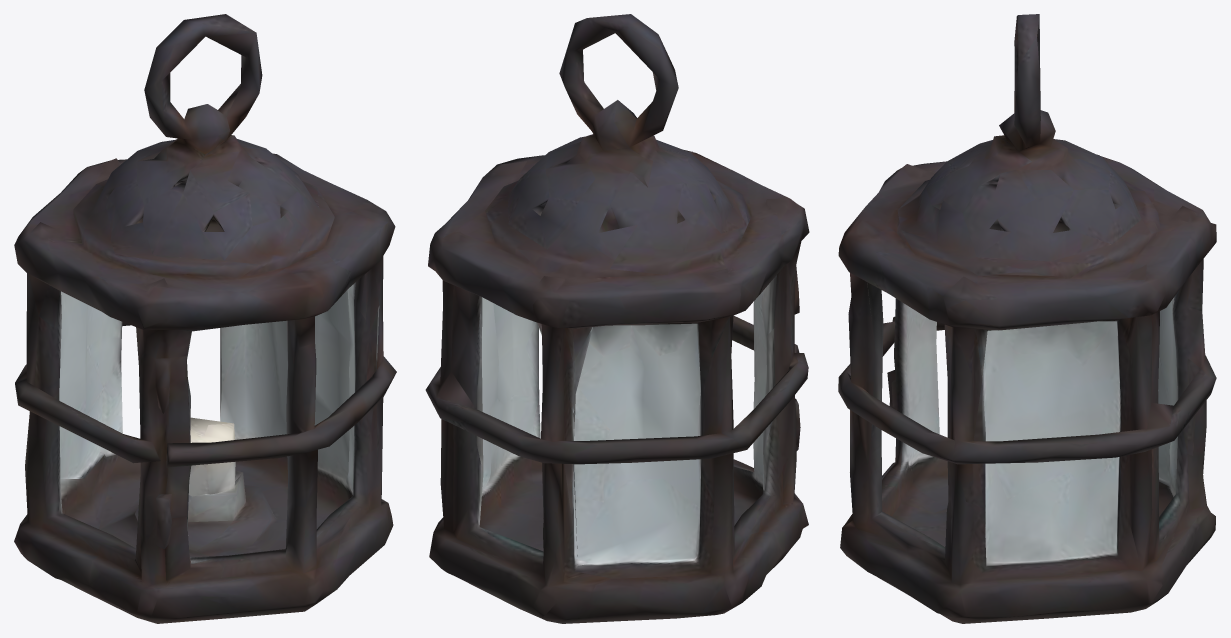
File: lantern.glb
3 renders of one model, left to right at view 1: azimuth 30°, elevation 25°; view 2: azimuth 150°, elevation 25°; view 3: azimuth 270°, elevation 25°, orthographic.
Visible parts, largest first — view 1: tripo_node_e93baaf5-2b7d-4738-bb9b-38b90c058672; view 2: tripo_node_e93baaf5-2b7d-4738-bb9b-38b90c058672; view 3: tripo_node_e93baaf5-2b7d-4738-bb9b-38b90c058672.
Part boxes in pixels (x1,y1,x2,y2): tripo_node_e93baaf5-2b7d-4738-bb9b-38b90c058672: (14,14,396,623); tripo_node_e93baaf5-2b7d-4738-bb9b-38b90c058672: (425,14,809,623); tripo_node_e93baaf5-2b7d-4738-bb9b-38b90c058672: (838,14,1216,623).
Bounding box in the file's own units: 0.6001 × 0.9763 × 0.6224.
Materials: 1 (1 with a texture image).
